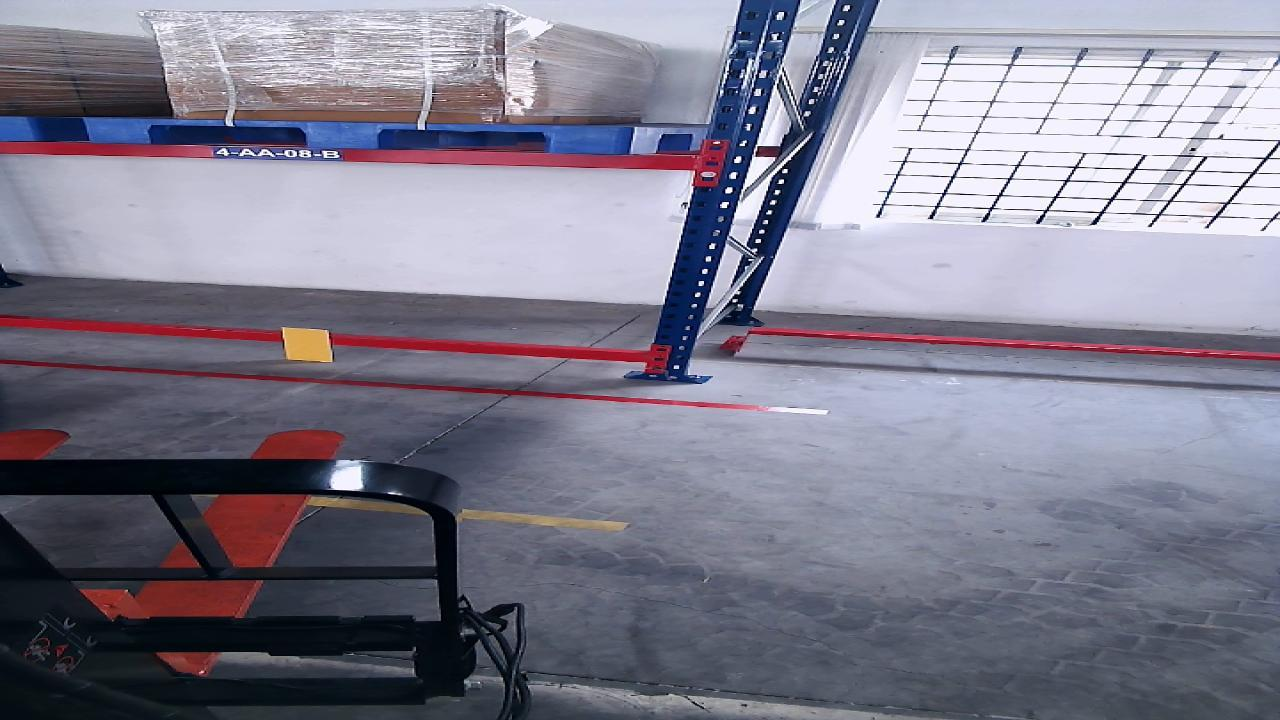h_rack: (0, 317, 643, 362), (0, 142, 694, 170)
orange_strip: (282, 327, 332, 362)
red_line: (3, 359, 825, 415)
small_pallet: (84, 117, 637, 154)
yellow_line: (307, 489, 626, 535)
